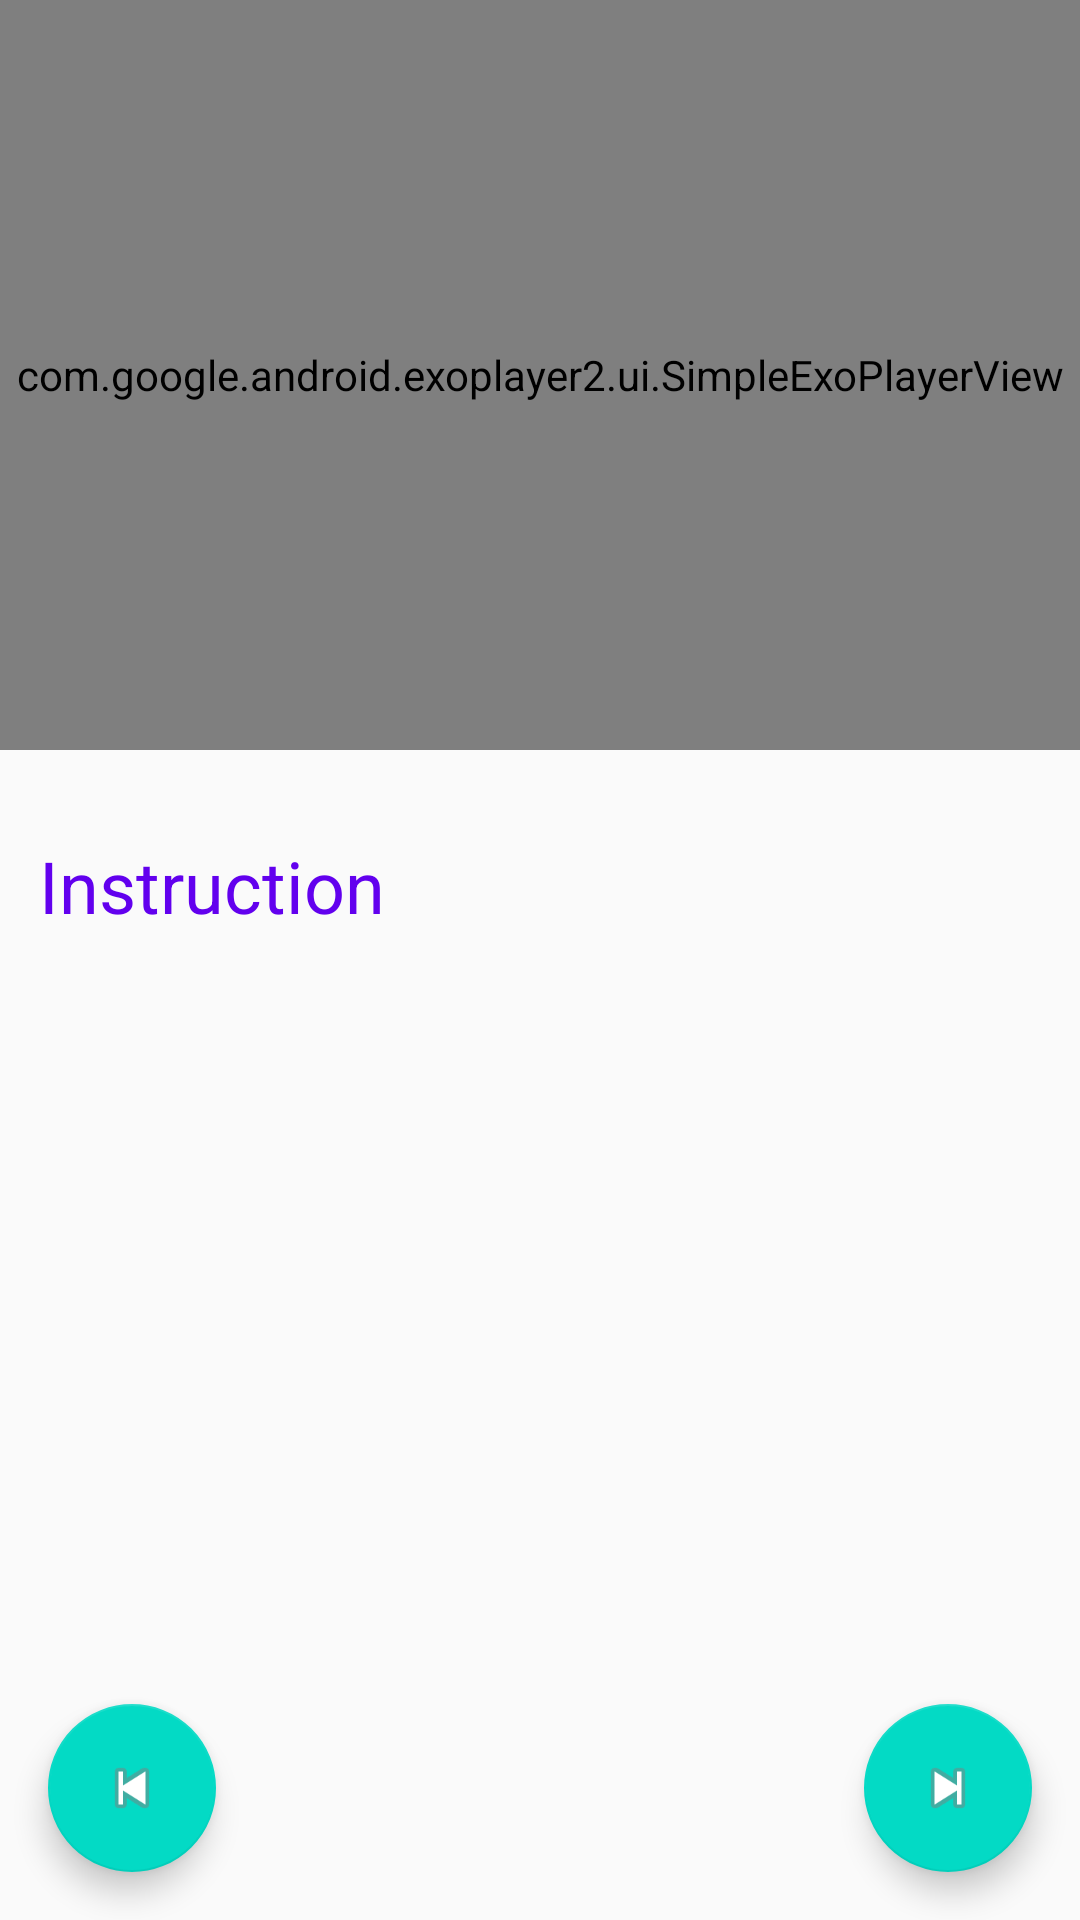

Named icons in this screenshot (1080px×1920px) and their bounding boxes, rect(x1, y1, x2, y2):
next: rect(864, 1704, 1032, 1872)
previous: rect(48, 1704, 216, 1872)
